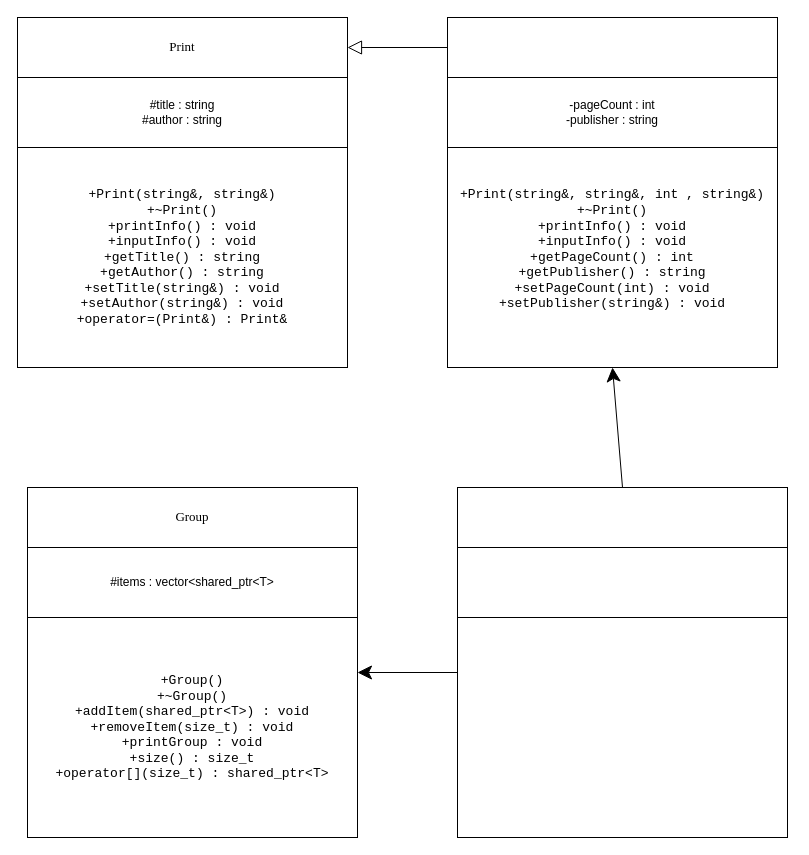
This 809x855 diagram has some shape labels left out. The centre of each missing label's shape, as x and y in pixels:
+handleCommand(string&) : void: the point at 622,727
Book: the point at 612,47
Dialog: the point at 622,517
